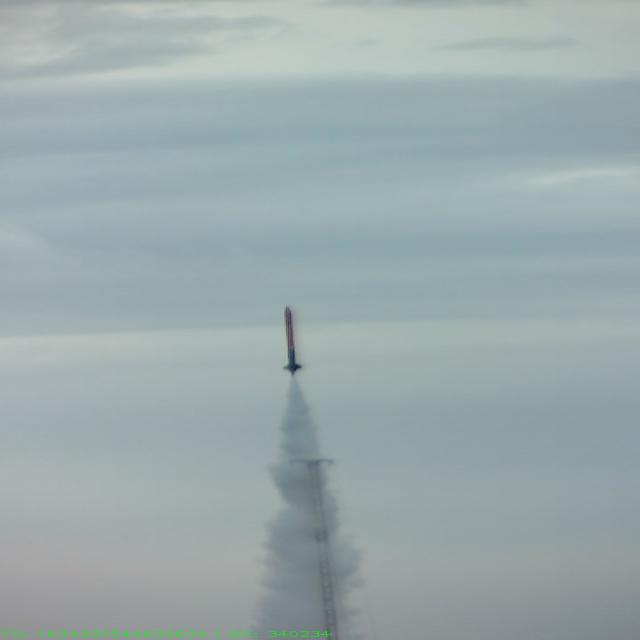Rocket: (282, 306, 302, 374)
